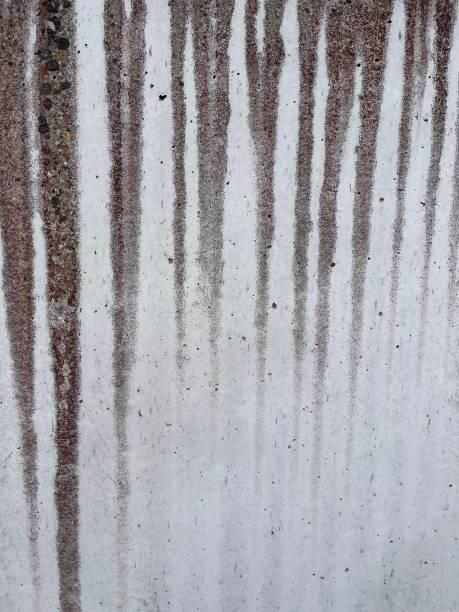Corrosion: (310, 1, 396, 496), (33, 1, 80, 612), (102, 1, 147, 612), (1, 1, 42, 612), (243, 1, 286, 499), (188, 1, 238, 395), (414, 1, 459, 385), (385, 1, 430, 373), (292, 1, 325, 441), (168, 1, 187, 385)
